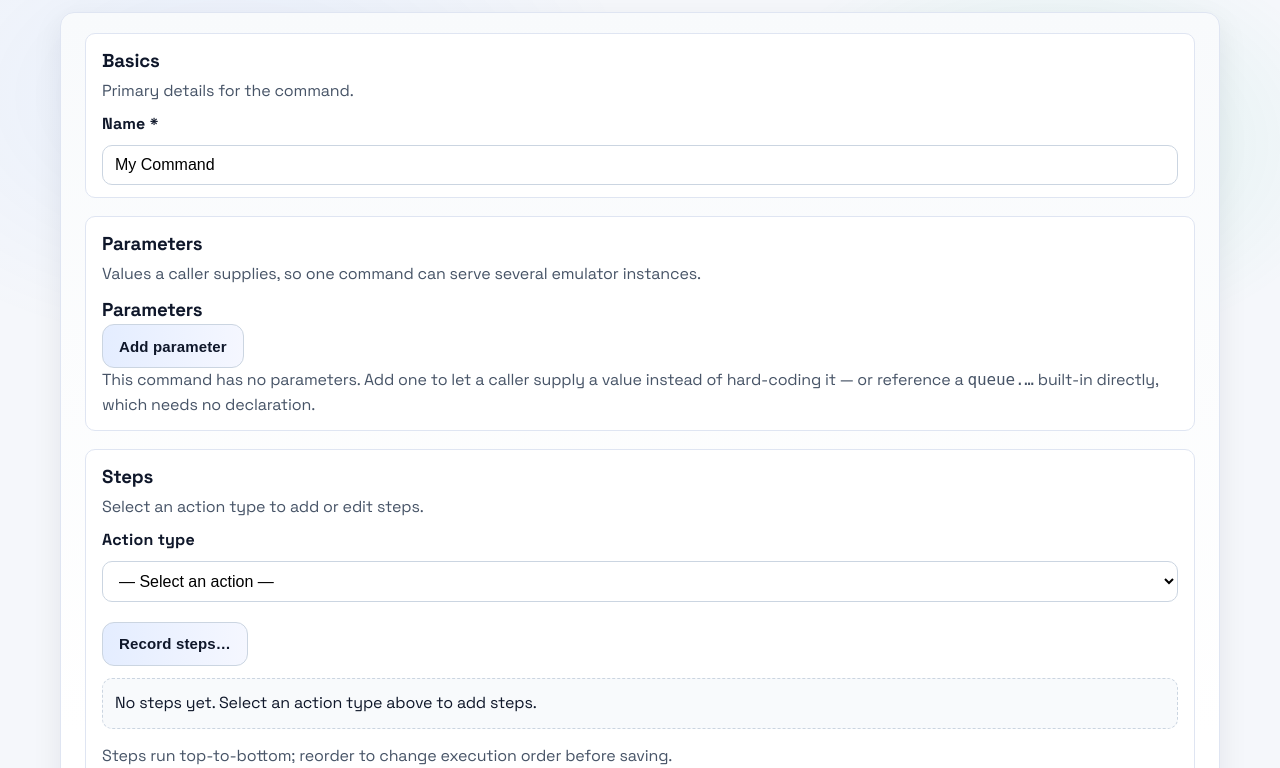
CommandForm — US1: selector and scaffolding › shows Wait for Image panel when WaitForImage is selected
Select "Wait for Image" in the dropdown labelled "Action type" at (640, 581), box 102,561 -> 1178,602
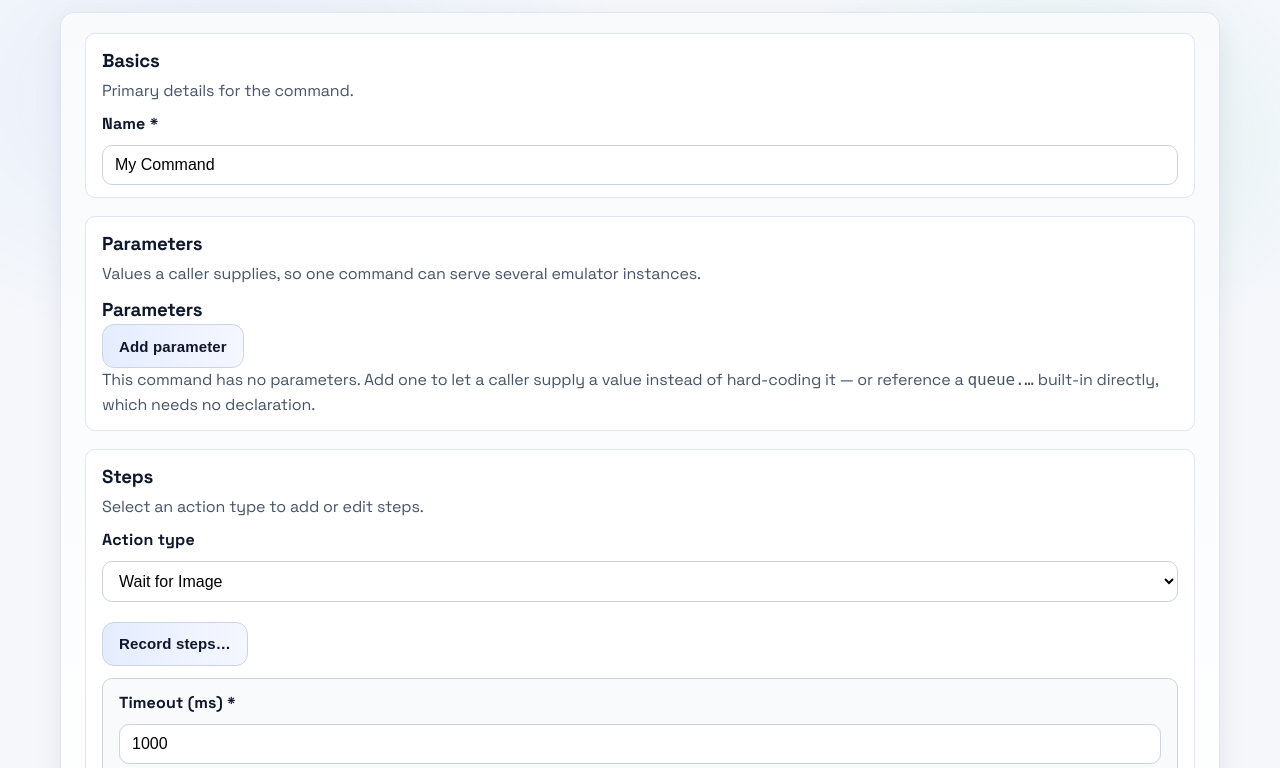
Now the number field labelled "Timeout (ms) *" is shown, box 119,724 -> 1161,764
